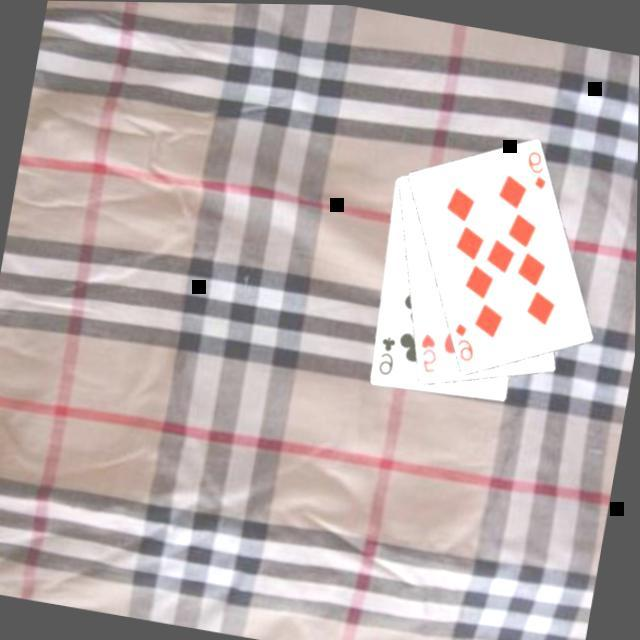5H: (414, 329, 447, 378)
9C: (374, 333, 402, 380)
9D: (519, 147, 556, 195), (448, 319, 483, 367)
